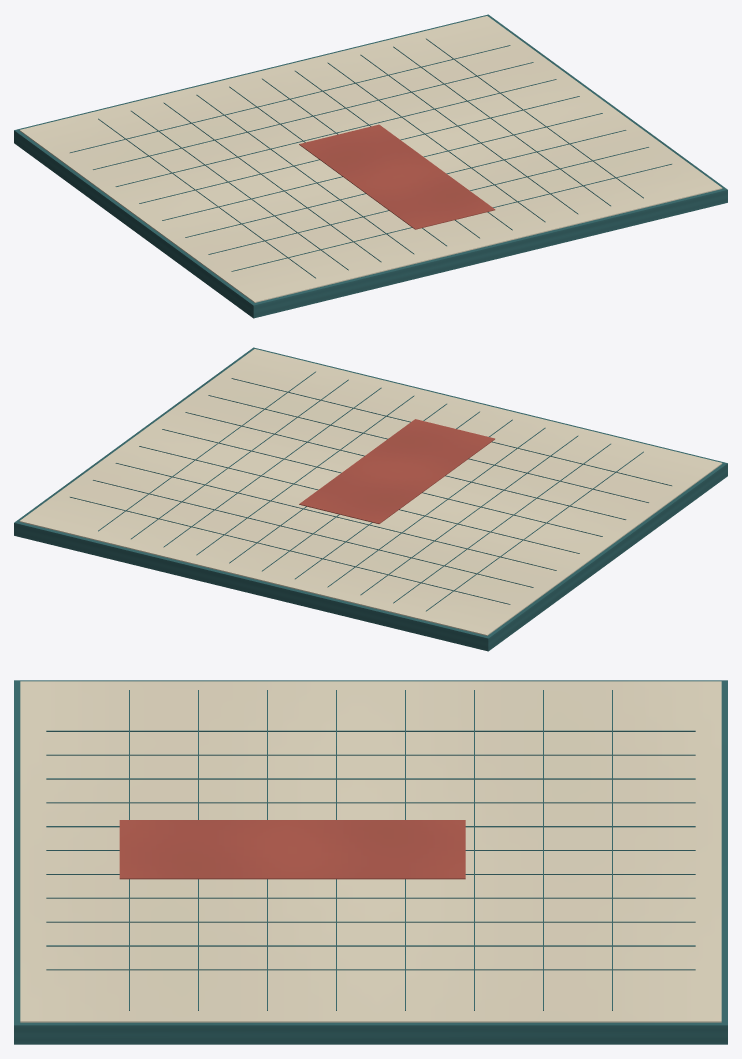
The model's file is atlas100-s035-a07.glb.
3 views of the same model, one above another, from view 1: azimuth 30°, elevation 25°; view 2: azimuth 150°, elevation 25°; view 3: azimuth 270°, elevation 25° (orthographic). The views are drawn at different scales.
Parts seen in each view (by area): view 1: atlas100-s035-a07:part-001, atlas100-s035-a07:part-000, atlas100-s035-a07:part-021, atlas100-s035-a07:part-013, atlas100-s035-a07:part-015, atlas100-s035-a07:part-014, atlas100-s035-a07:part-020, atlas100-s035-a07:part-018, atlas100-s035-a07:part-019, atlas100-s035-a07:part-017, atlas100-s035-a07:part-016; view 2: atlas100-s035-a07:part-001, atlas100-s035-a07:part-000, atlas100-s035-a07:part-021, atlas100-s035-a07:part-013, atlas100-s035-a07:part-014, atlas100-s035-a07:part-015, atlas100-s035-a07:part-020, atlas100-s035-a07:part-019, atlas100-s035-a07:part-018, atlas100-s035-a07:part-016, atlas100-s035-a07:part-017; view 3: atlas100-s035-a07:part-001, atlas100-s035-a07:part-000, atlas100-s035-a07:part-021, atlas100-s035-a07:part-004, atlas100-s035-a07:part-010, atlas100-s035-a07:part-011, atlas100-s035-a07:part-012, atlas100-s035-a07:part-005, atlas100-s035-a07:part-009, atlas100-s035-a07:part-003, atlas100-s035-a07:part-002, atlas100-s035-a07:part-006.
Boxes of the visible parts, <box> form: atlas100-s035-a07:part-001: <box>19,16,722,302</box>; atlas100-s035-a07:part-000: <box>14,14,727,318</box>; atlas100-s035-a07:part-021: <box>299,124,495,229</box>; atlas100-s035-a07:part-013: <box>70,45,510,152</box>; atlas100-s035-a07:part-015: <box>115,79,556,186</box>; atlas100-s035-a07:part-014: <box>93,62,533,169</box>; atlas100-s035-a07:part-020: <box>231,164,671,271</box>; atlas100-s035-a07:part-018: <box>185,130,626,237</box>; atlas100-s035-a07:part-019: <box>208,147,648,254</box>; atlas100-s035-a07:part-017: <box>162,113,602,220</box>; atlas100-s035-a07:part-016: <box>139,96,579,203</box>; atlas100-s035-a07:part-001: <box>19,349,722,635</box>; atlas100-s035-a07:part-000: <box>14,347,727,651</box>; atlas100-s035-a07:part-021: <box>299,419,494,523</box>; atlas100-s035-a07:part-013: <box>70,497,510,604</box>; atlas100-s035-a07:part-014: <box>93,480,533,587</box>; atlas100-s035-a07:part-015: <box>115,463,556,570</box>; atlas100-s035-a07:part-020: <box>231,378,671,485</box>; atlas100-s035-a07:part-019: <box>208,395,648,502</box>; atlas100-s035-a07:part-018: <box>185,412,626,519</box>; atlas100-s035-a07:part-016: <box>139,446,579,553</box>; atlas100-s035-a07:part-017: <box>162,429,602,536</box>; atlas100-s035-a07:part-001: <box>20,681,721,1022</box>; atlas100-s035-a07:part-000: <box>14,680,727,1044</box>; atlas100-s035-a07:part-021: <box>119,820,465,879</box>; atlas100-s035-a07:part-004: <box>46,778,695,779</box>; atlas100-s035-a07:part-010: <box>46,921,695,922</box>; atlas100-s035-a07:part-011: <box>46,945,695,946</box>; atlas100-s035-a07:part-012: <box>46,969,695,970</box>; atlas100-s035-a07:part-005: <box>46,802,695,803</box>; atlas100-s035-a07:part-009: <box>46,897,695,898</box>; atlas100-s035-a07:part-003: <box>46,754,695,755</box>; atlas100-s035-a07:part-002: <box>46,730,695,731</box>; atlas100-s035-a07:part-006: <box>46,826,695,827</box>.
Size of the model in its own units: 13.02 by 0.404 by 11.39.
Materials: 3 (3 with a texture image).
